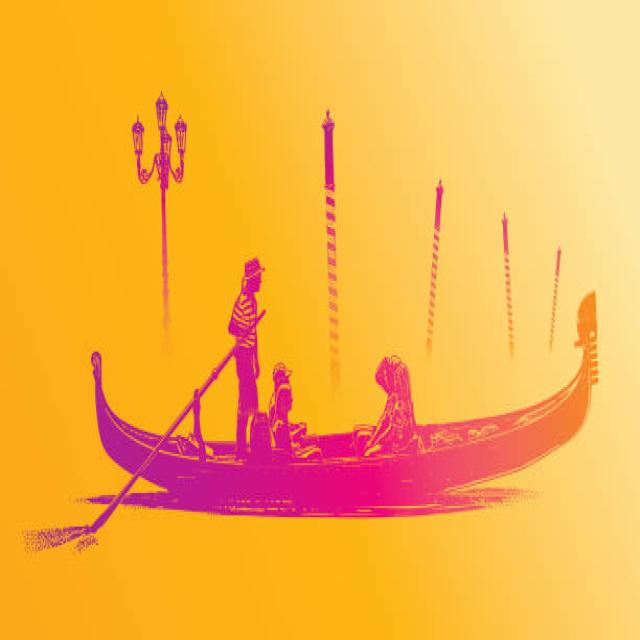boat: (72, 286, 604, 536)
